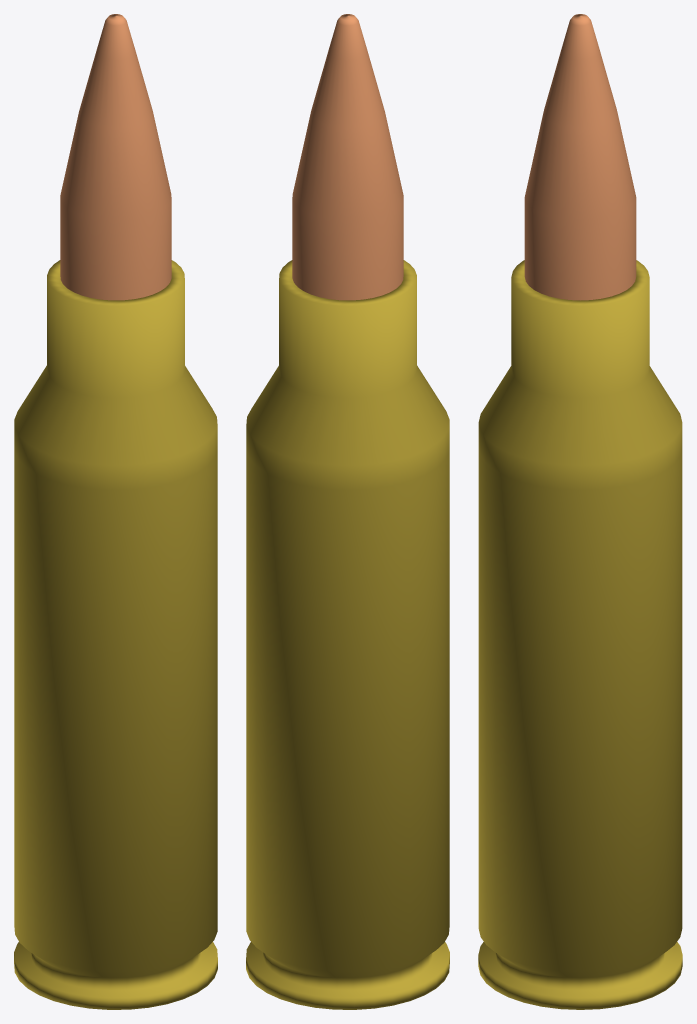
The model's file is bullet.fbx.
3 views of the same model, side by side, from view 1: azimuth 30°, elevation 25°; view 2: azimuth 150°, elevation 25°; view 3: azimuth 270°, elevation 25° (orthographic).
Visible parts, largest first — view 1: casing, round; view 2: casing, round; view 3: casing, round.
Boxes of the visible parts, x1,y1,x2,y2 form: casing: (14, 260, 217, 1009); round: (60, 14, 171, 300); casing: (246, 260, 449, 1009); round: (292, 14, 403, 300); casing: (478, 260, 682, 1009); round: (524, 14, 636, 300).
Bounding box in the file's own units: 13.53 × 69.55 × 13.53.
